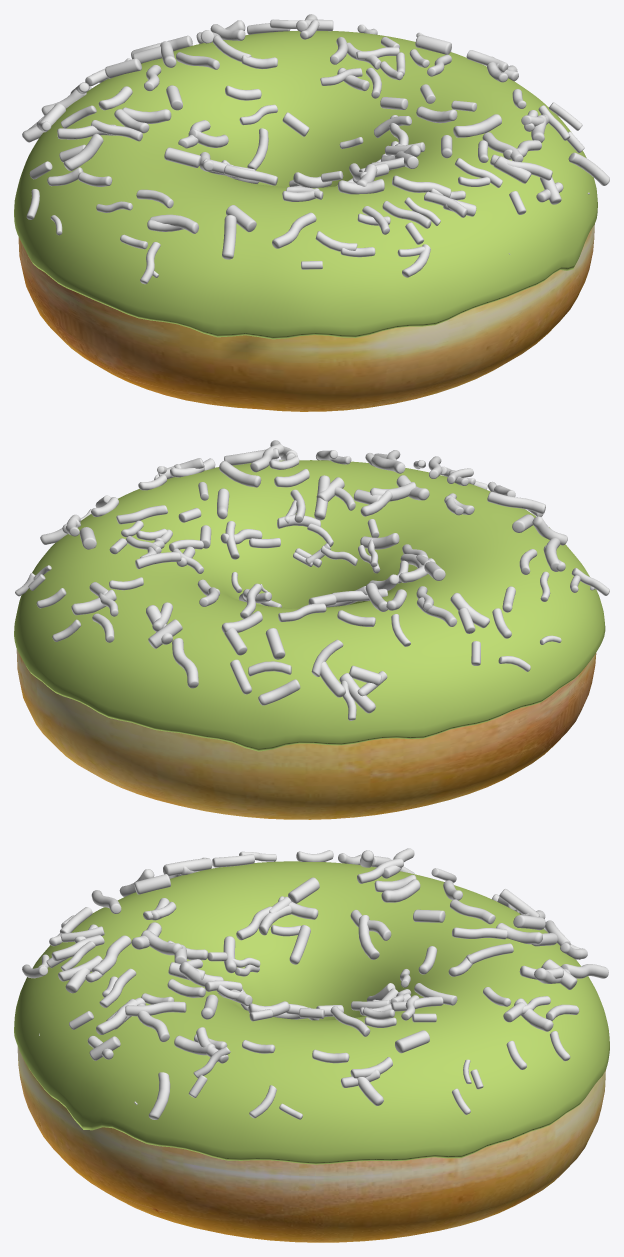
The model's file is pistachio white vermicheli.glb.
3 renders of one model, top to bottom at view 1: azimuth 30°, elevation 25°; view 2: azimuth 150°, elevation 25°; view 3: azimuth 270°, elevation 25°, orthographic. The views are drawn at different scales.
Visible parts, largest first — view 1: chocolate, white Ver, Torus; view 2: chocolate, Torus, white Ver; view 3: chocolate, Torus, white Ver.
Part boxes in pixels (box(x1,y1,x2,y2)): chocolate: box(14, 31, 597, 339); white Ver: box(22, 14, 609, 284); Torus: box(18, 224, 594, 411); chocolate: box(14, 460, 605, 751); Torus: box(16, 649, 596, 819); white Ver: box(15, 440, 609, 720); chocolate: box(14, 861, 609, 1164); Torus: box(17, 1046, 605, 1242); white Ver: box(22, 848, 608, 1119).
Size of the model in its own units: 0.1988 by 0.0785 by 0.1971.
Materials: 3 (1 with a texture image).
